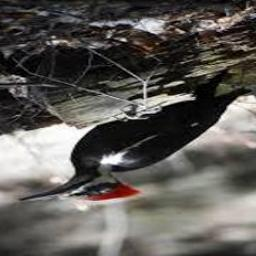Woodpecker: (20, 74, 250, 204)
